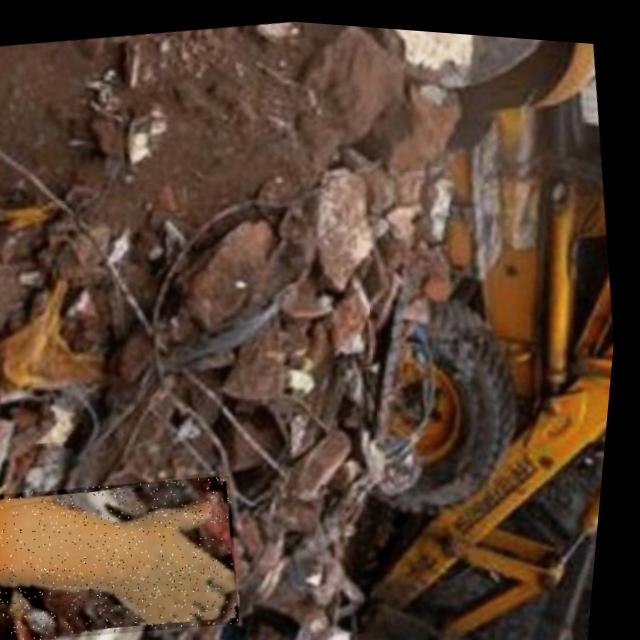Person in Rubble: (0, 456, 259, 640)
